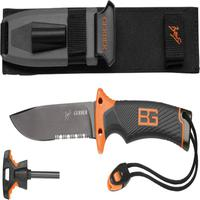knife: (5, 84, 195, 154)
